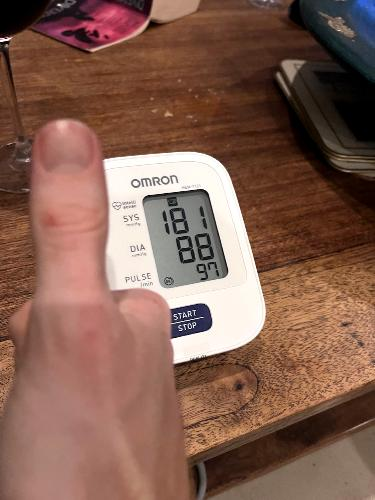bpm: (141, 183, 230, 291)
